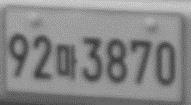0: (154, 41, 177, 85)
2: (33, 34, 53, 81)
3: (81, 37, 102, 82)
7: (129, 38, 151, 84)
8: (107, 38, 127, 84)
9: (8, 33, 30, 78)
마: (55, 44, 78, 79)
